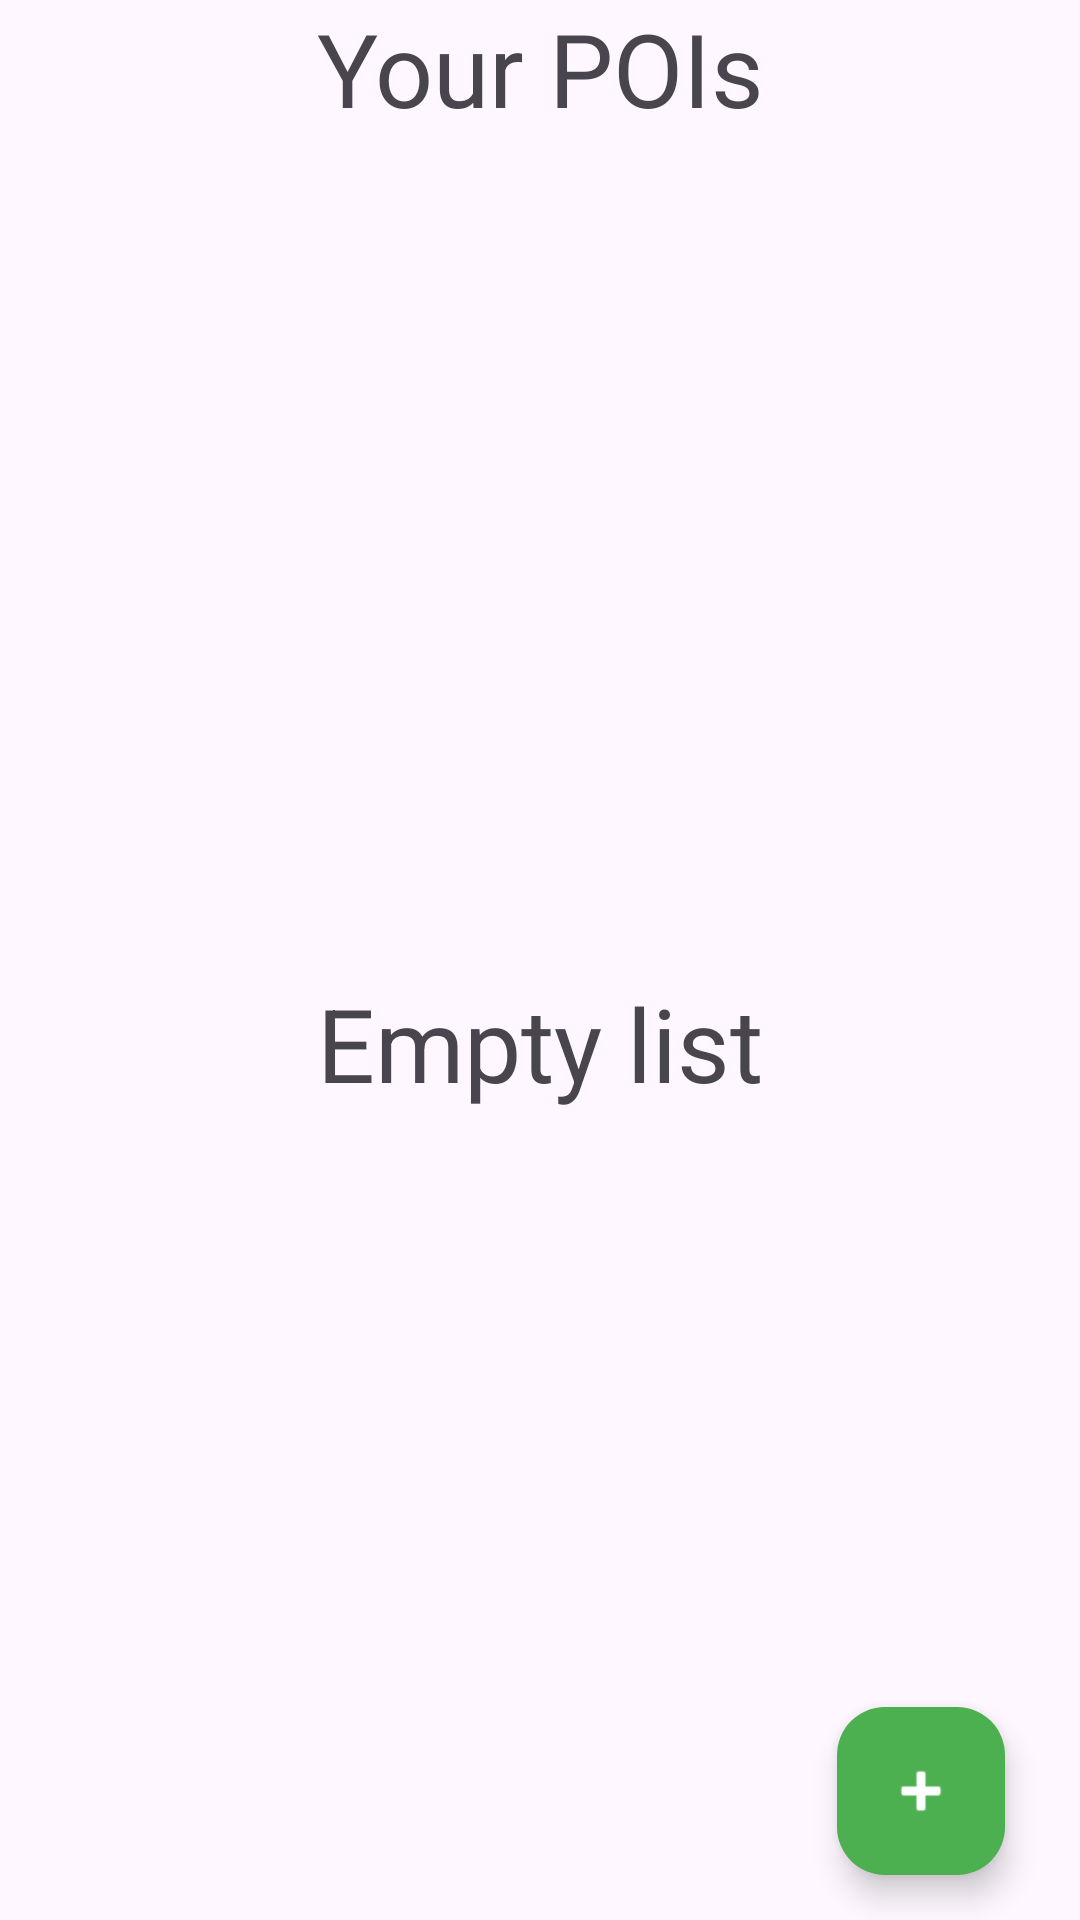

Screen size 1080px x 1920px. Icon name, then its box in pixels as [x1, y1, x2, y2]:
Add new category: [837, 1707, 1005, 1875]
